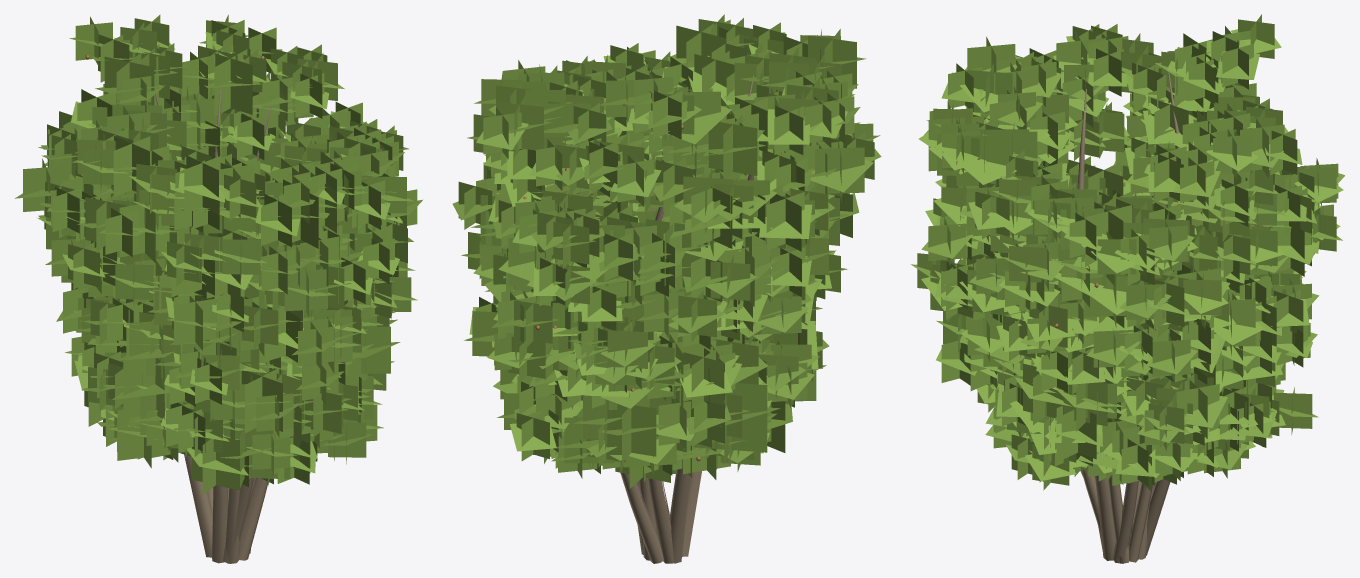
The model's file is noisetier_5_jeu.glb.
The picture shows the model from 3 angles, left to right: view 1: azimuth 30°, elevation 25°; view 2: azimuth 150°, elevation 25°; view 3: azimuth 270°, elevation 25°; orthographic projection. The views are drawn at different scales.
Parts seen in each view (by area): view 1: Noisetier_T5_Leger; view 2: Noisetier_T5_Leger; view 3: Noisetier_T5_Leger.
Boxes of the visible parts, left/top/right/bottom form: Noisetier_T5_Leger: left=15, top=14, right=422, bottom=563; Noisetier_T5_Leger: left=452, top=14, right=881, bottom=563; Noisetier_T5_Leger: left=911, top=14, right=1344, bottom=563.
Size of the model in its own units: 5.46 by 7.54 by 5.94.
